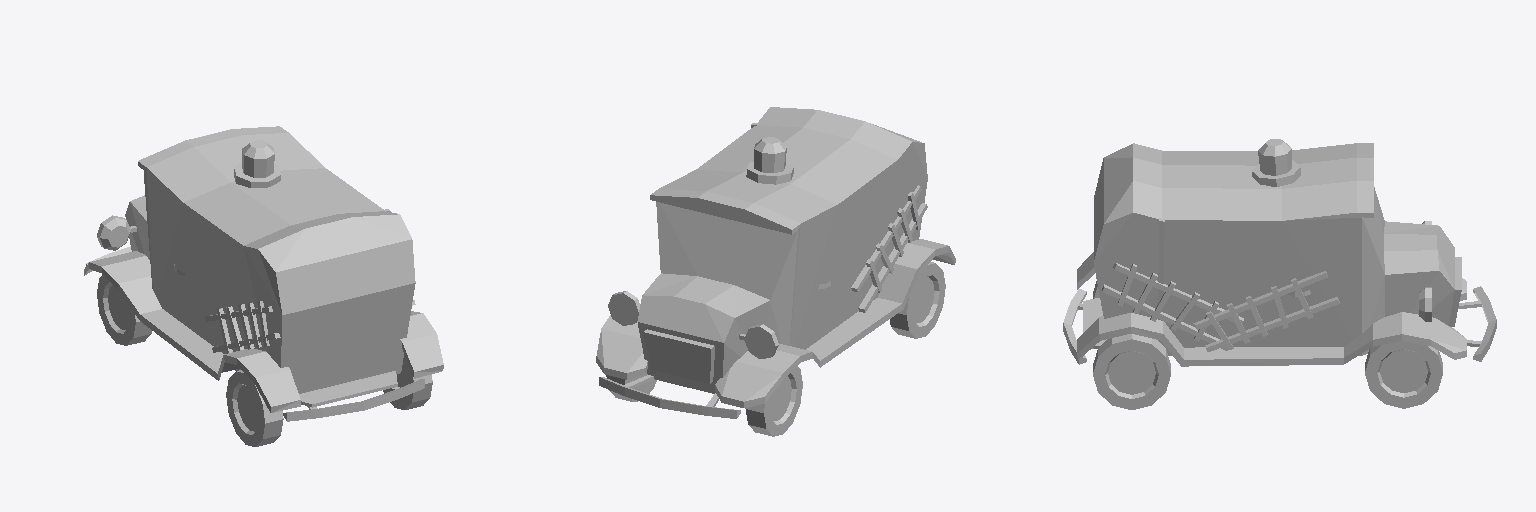
File: firefighter.obj
3 renders of one model, left to right at view 1: azimuth 30°, elevation 25°; view 2: azimuth 150°, elevation 25°; view 3: azimuth 270°, elevation 25°, orthographic.
Visible parts, largest first — view 1: Object001_Untitled; view 2: Object001_Untitled; view 3: Object001_Untitled.
Part boxes in pixels (bbox=[...]): Object001_Untitled: bbox=[84, 126, 443, 446]; Object001_Untitled: bbox=[596, 107, 955, 436]; Object001_Untitled: bbox=[1063, 139, 1496, 409].
Bounding box in the file's own units: 1.53 × 1.78 × 3.07.